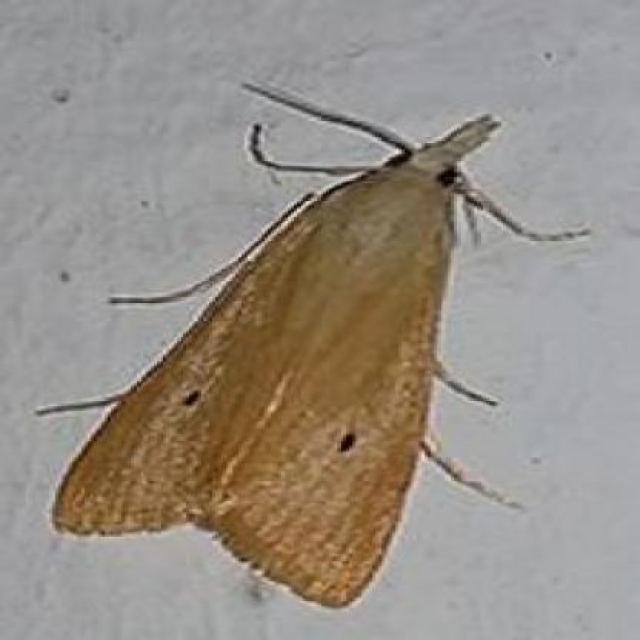stem-borer: (30, 76, 601, 610)
